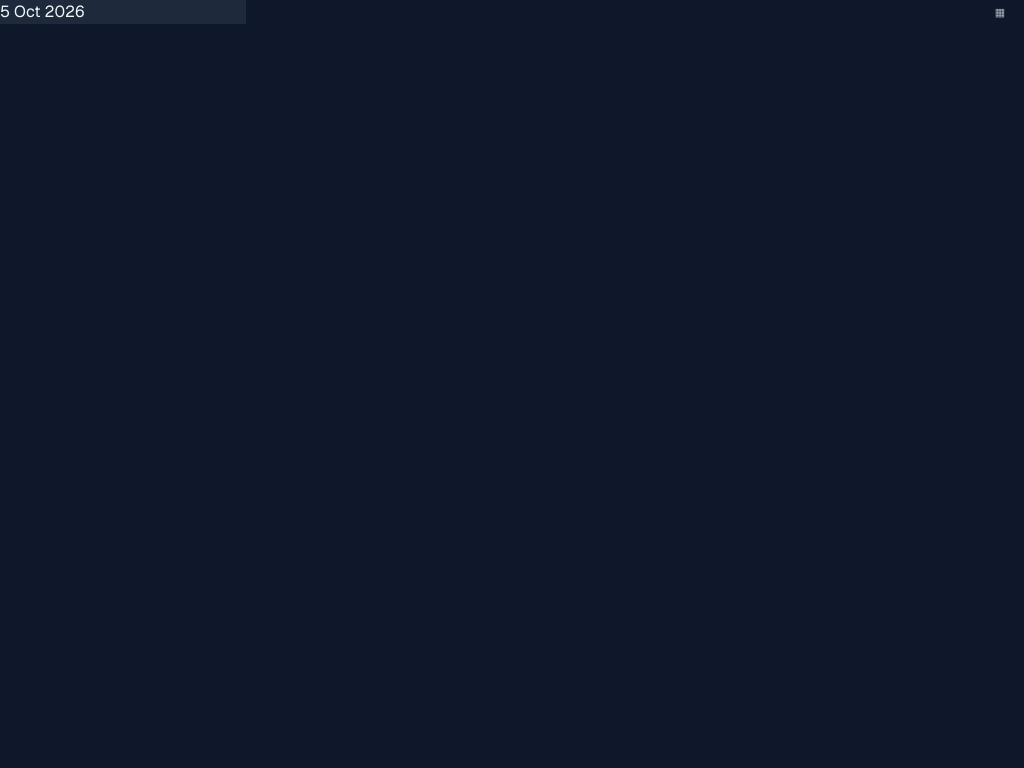
Test: DateInput popover and messages (review #5, #8) › a mouse click on the calendar button keeps focus in the field: Escape and arrows work from there
Click the button named "Open calendar" at (1000, 12), box [990,2,1010,22]
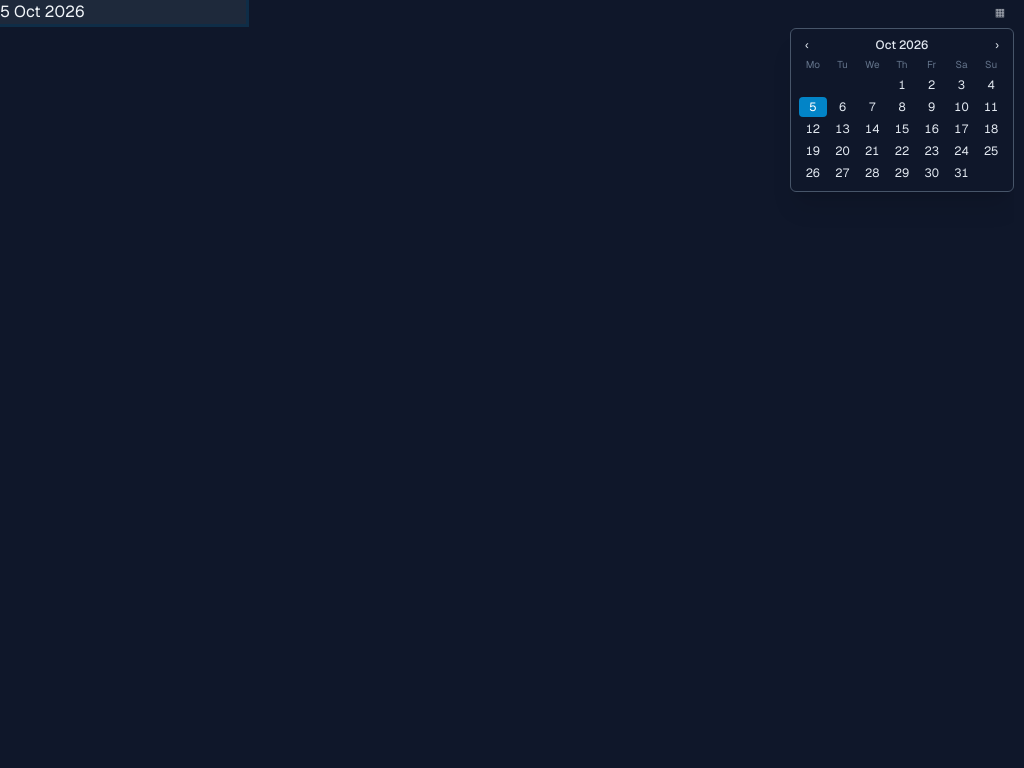
Press ArrowDown in the field named "Start", box [0,0,246,24]
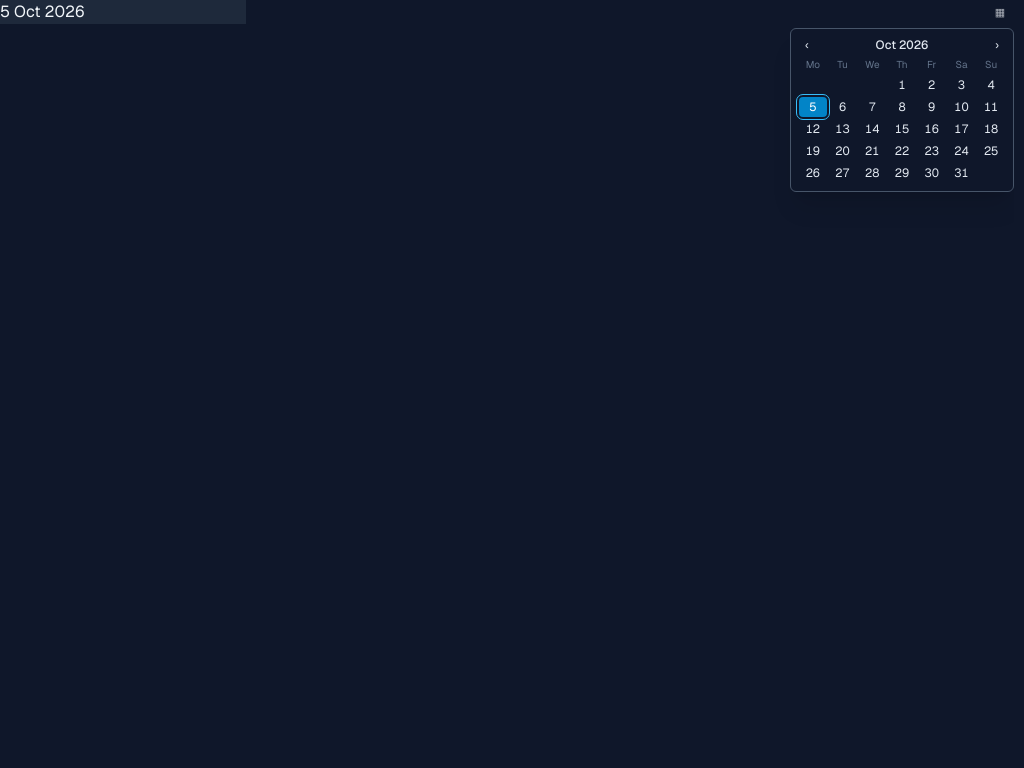
Press Escape in the button named "5 Oct 2026", box [799,97,827,117]
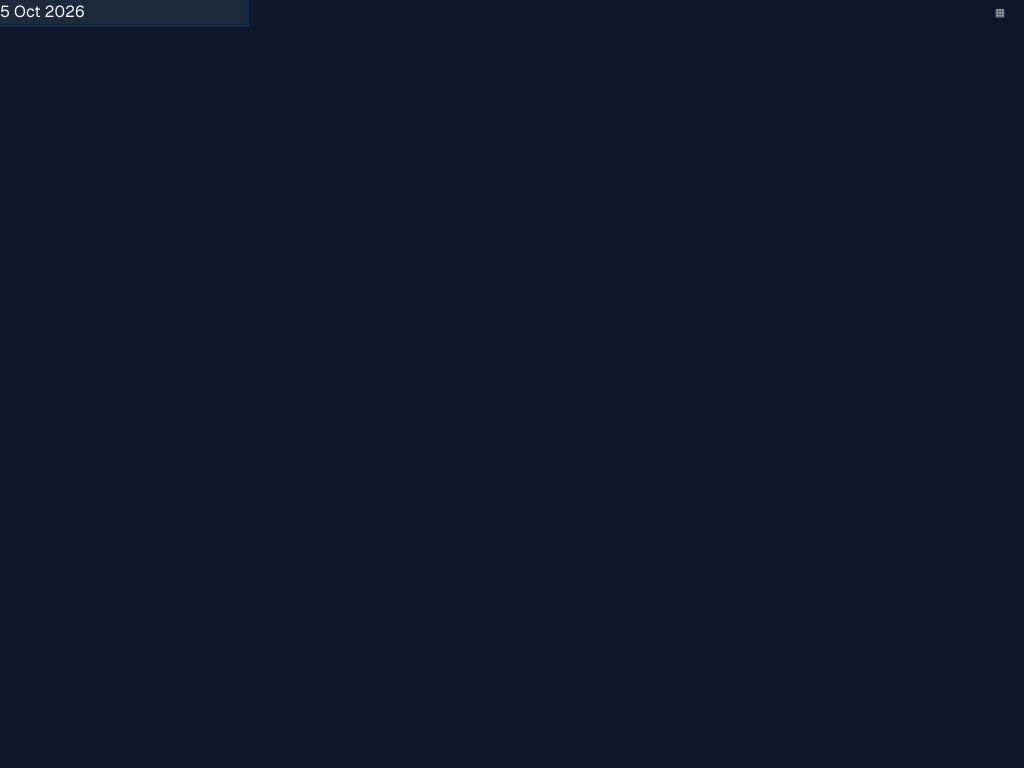
Check: the dialog with test id "date-popover" is gone
